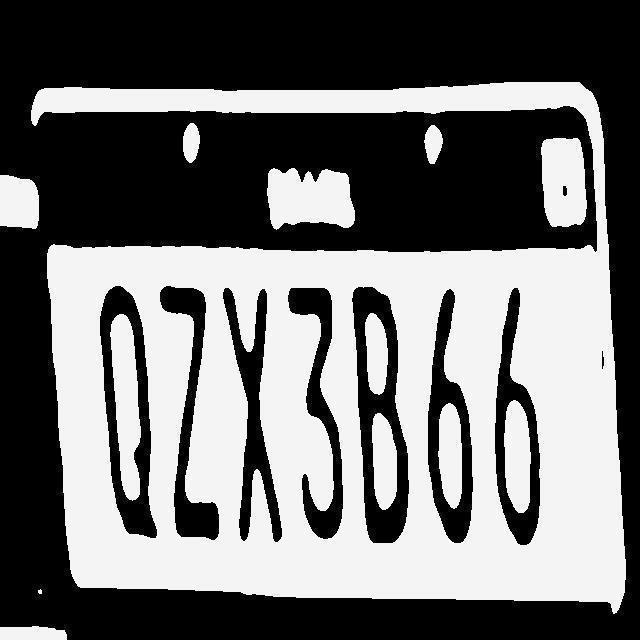3: (286, 282, 347, 546)
6: (487, 282, 547, 550), (423, 282, 477, 547)
b: (349, 281, 412, 549)
q: (91, 282, 158, 545)
x: (223, 276, 283, 550)
z: (160, 278, 218, 548)
